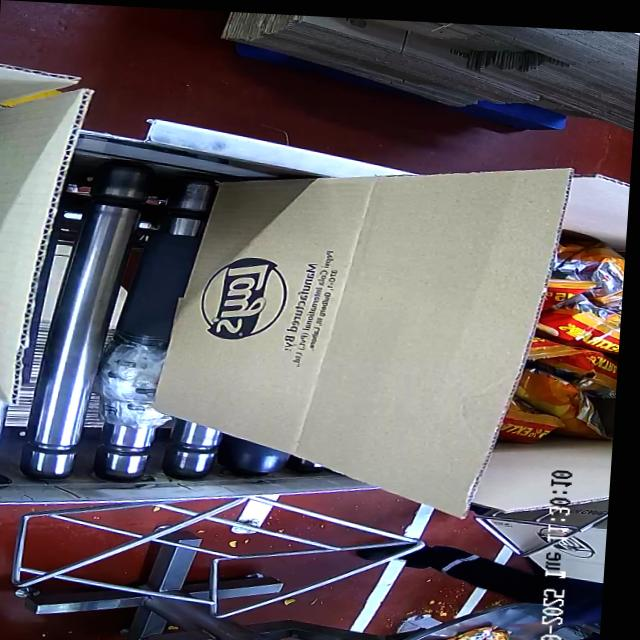FRENCH_CHEESE: (509, 221, 627, 450)
